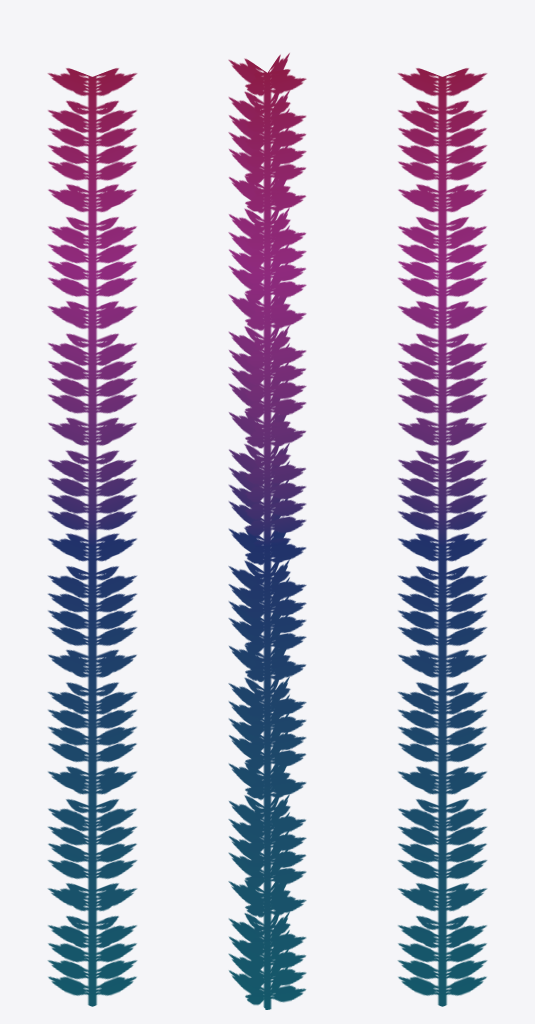
The model's file is haidai_long_m.glb.
3 renders of one model, left to right at view 1: azimuth 90°, elevation 25°; view 2: azimuth 150°, elevation 25°; view 3: azimuth 270°, elevation 25°, orthographic.
Parts seen in each view (by area): view 1: pPlane357; view 2: pPlane357; view 3: pPlane357.
Part boxes in pixels (x1,y1,x2,y2): pPlane357: (47,68,137,1006); pPlane357: (228,53,306,1009); pPlane357: (397,68,487,1006).
Size of the model in its own units: 0.084 by 0.5684 by 0.084.
Materials: 1 (1 with a texture image).
